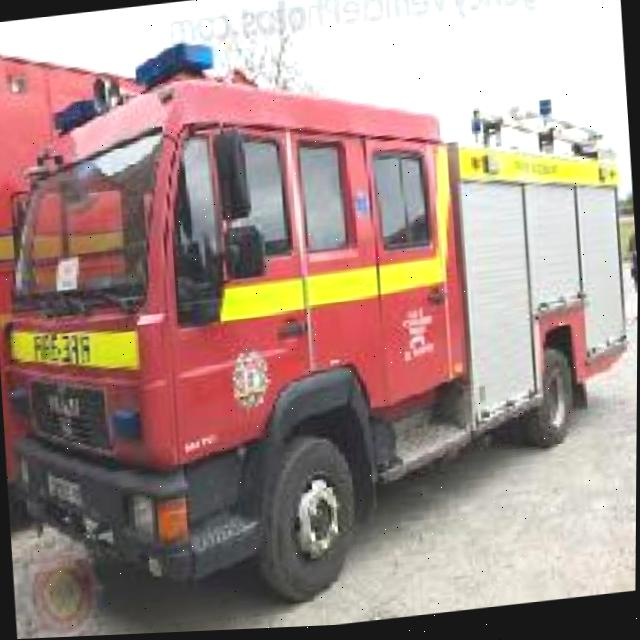emergency: (0, 4, 640, 635)
